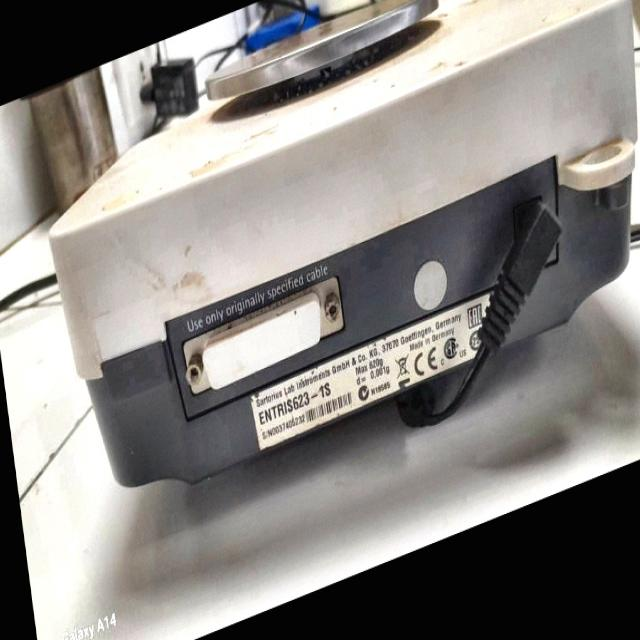Electronic balance: (10, 0, 640, 545)
